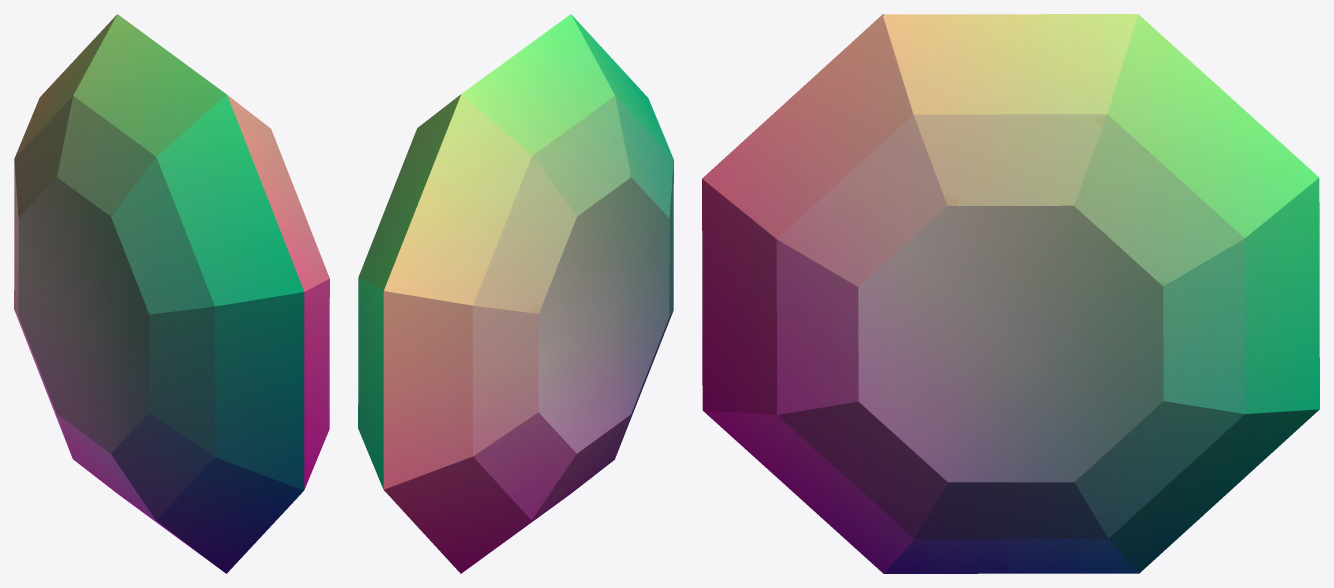
Rendered from Diamond_5.fbx.
3 views of the same model, side by side, from view 1: azimuth 30°, elevation 25°; view 2: azimuth 150°, elevation 25°; view 3: azimuth 270°, elevation 25° (orthographic). The views are drawn at different scales.
Visible parts, largest first — view 1: Diamond_5; view 2: Diamond_5; view 3: Diamond_5.
Boxes of the visible parts, <box> form: Diamond_5: <box>14,14,329,573</box>; Diamond_5: <box>358,14,673,573</box>; Diamond_5: <box>702,14,1319,573</box>.
Bounding box in the file's own units: 47.14 × 123 × 123.
